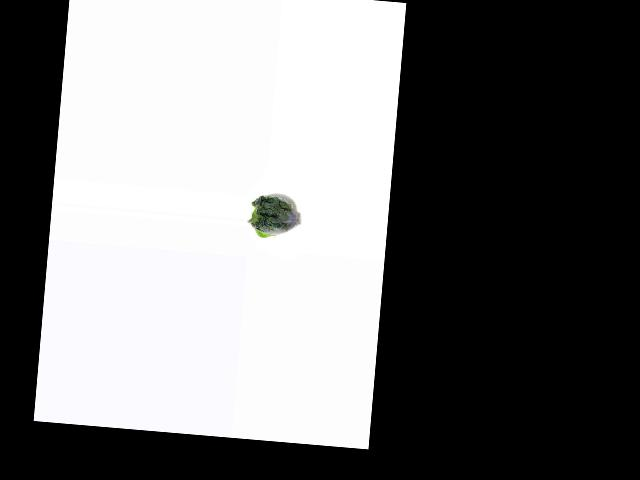lettuce: (247, 190, 303, 243)
